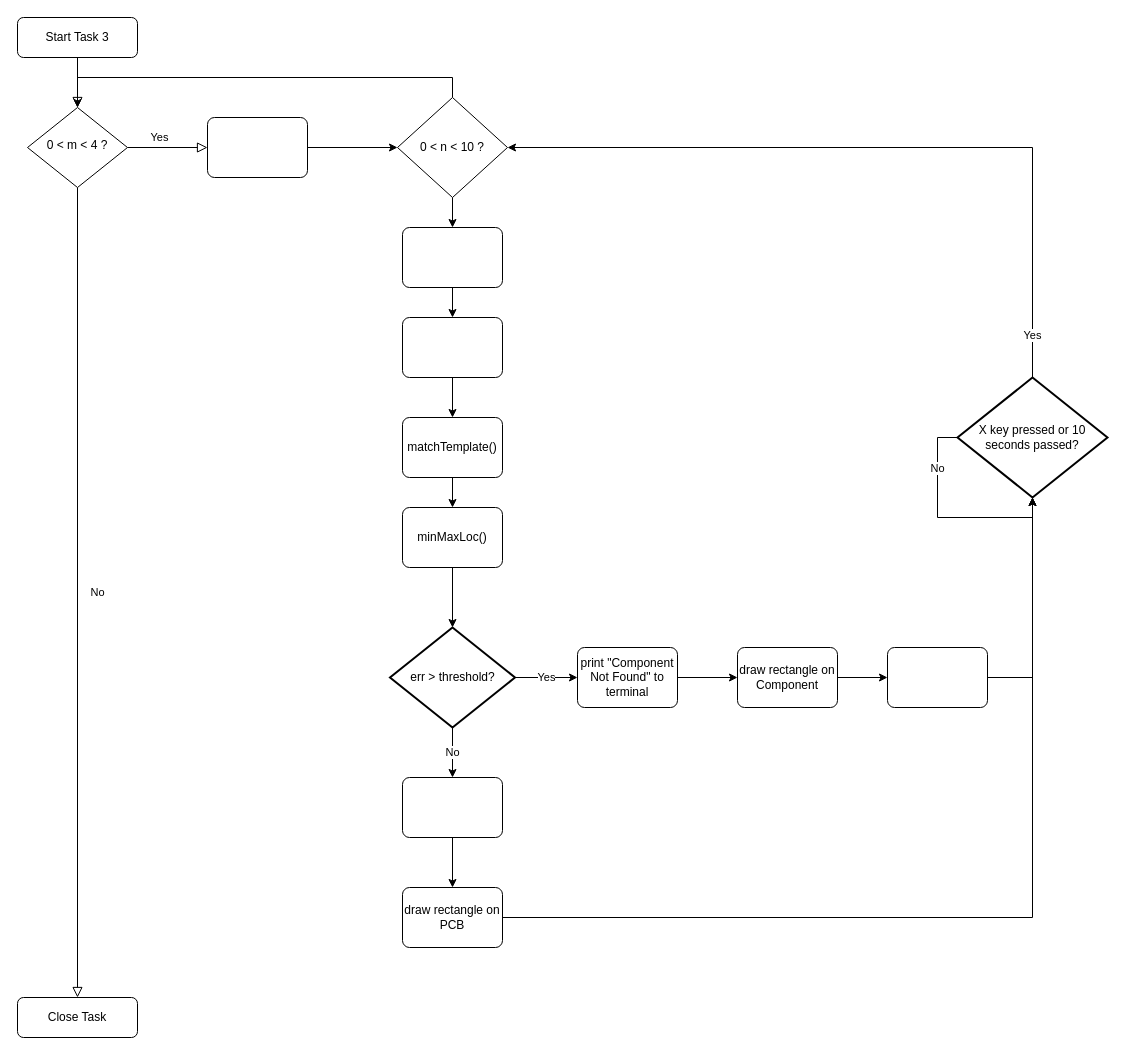
The diagram is 1126 pixels wide and 1055 high, and some of its shapes have lost their labels. The shapes that lost their labels are listed below. From the top down, each one's centre as x and y in pixels, then its label:
point (257, 147): Update Path location
point (452, 257): Read PCB image
point (452, 347): Read Component Image
point (937, 677): increment variable notFound
point (452, 807): print "Component Found" to terminal
